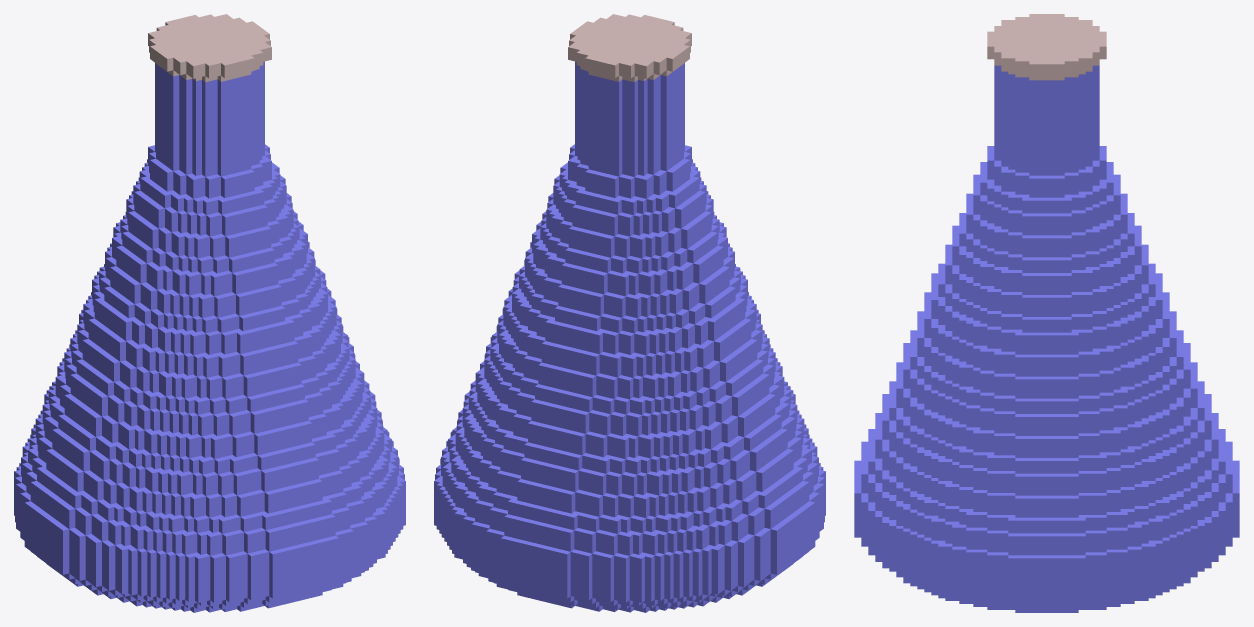
File: Flask3-5-1.fbx
3 renders of one model, left to right at view 1: azimuth 30°, elevation 25°; view 2: azimuth 150°, elevation 25°; view 3: azimuth 270°, elevation 25°, orthographic.
Parts seen in each view (by area): view 1: Flask3-5-1.001, Flask3-5-1; view 2: Flask3-5-1.001, Flask3-5-1; view 3: Flask3-5-1.001, Flask3-5-1.
Boxes of the visible parts, x1,y1,x2,y2 form: Flask3-5-1.001: (14, 61, 405, 612); Flask3-5-1: (148, 14, 271, 82); Flask3-5-1.001: (434, 61, 825, 612); Flask3-5-1: (568, 14, 691, 82); Flask3-5-1.001: (854, 65, 1239, 612); Flask3-5-1: (987, 14, 1106, 80).
Bounding box in the file's own units: 5.5 × 7.9 × 5.5.
